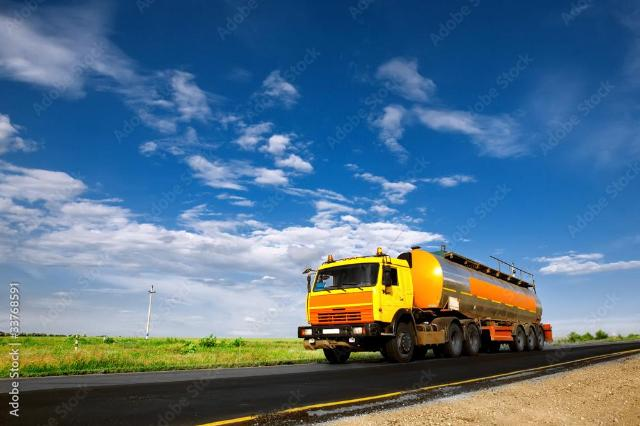truck: (281, 234, 572, 378)
